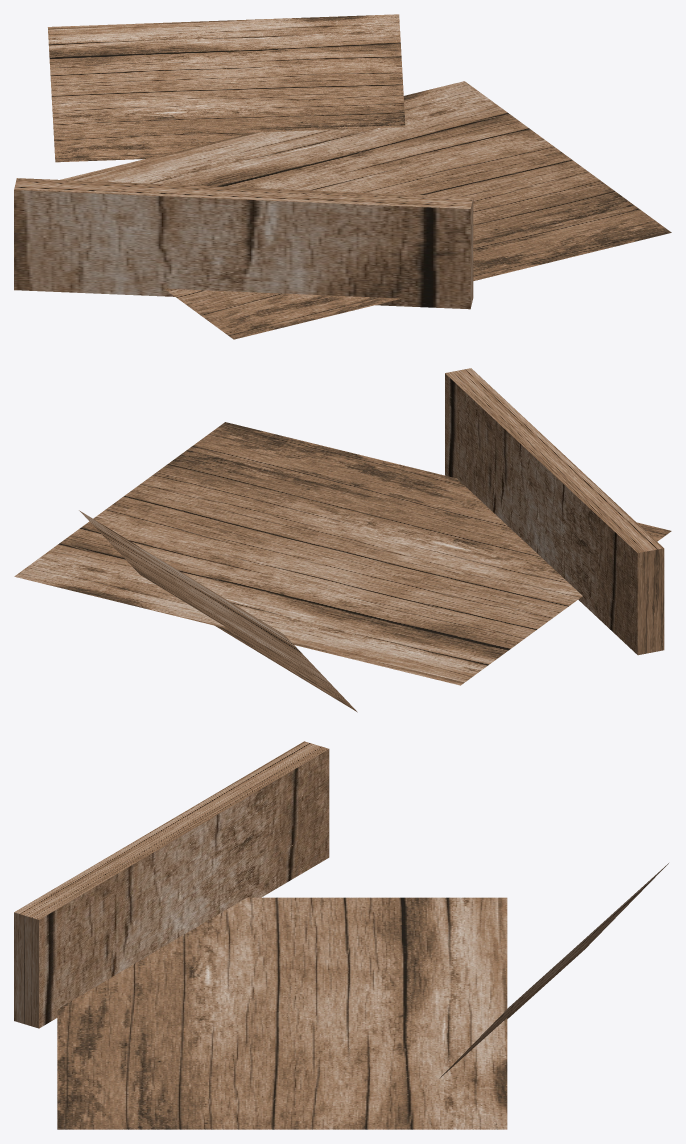
The picture shows the model from 3 angles, top to bottom: view 1: azimuth 30°, elevation 25°; view 2: azimuth 150°, elevation 25°; view 3: azimuth 270°, elevation 25°; orthographic projection. The views are drawn at different scales.
Parts seen in each view (by area): view 1: wall, floor, wall.001; view 2: floor, wall, wall.001; view 3: floor, wall, wall.001.
Boxes of the visible parts, left/top/right/bottom form: wall: left=14, top=178, right=473, bottom=309; floor: left=60, top=81, right=671, bottom=339; wall.001: left=47, top=14, right=405, bottom=162; floor: left=14, top=422, right=671, bottom=685; wall: left=445, top=368, right=664, bottom=655; wall.001: left=79, top=510, right=357, bottom=712; floor: left=57, top=897, right=507, bottom=1129; wall: left=14, top=741, right=329, bottom=1028; wall.001: left=439, top=863, right=668, bottom=1078.
Size of the model in its own units: 30.02 by 5.72 by 28.95.
Materials: 1 (1 with a texture image).
